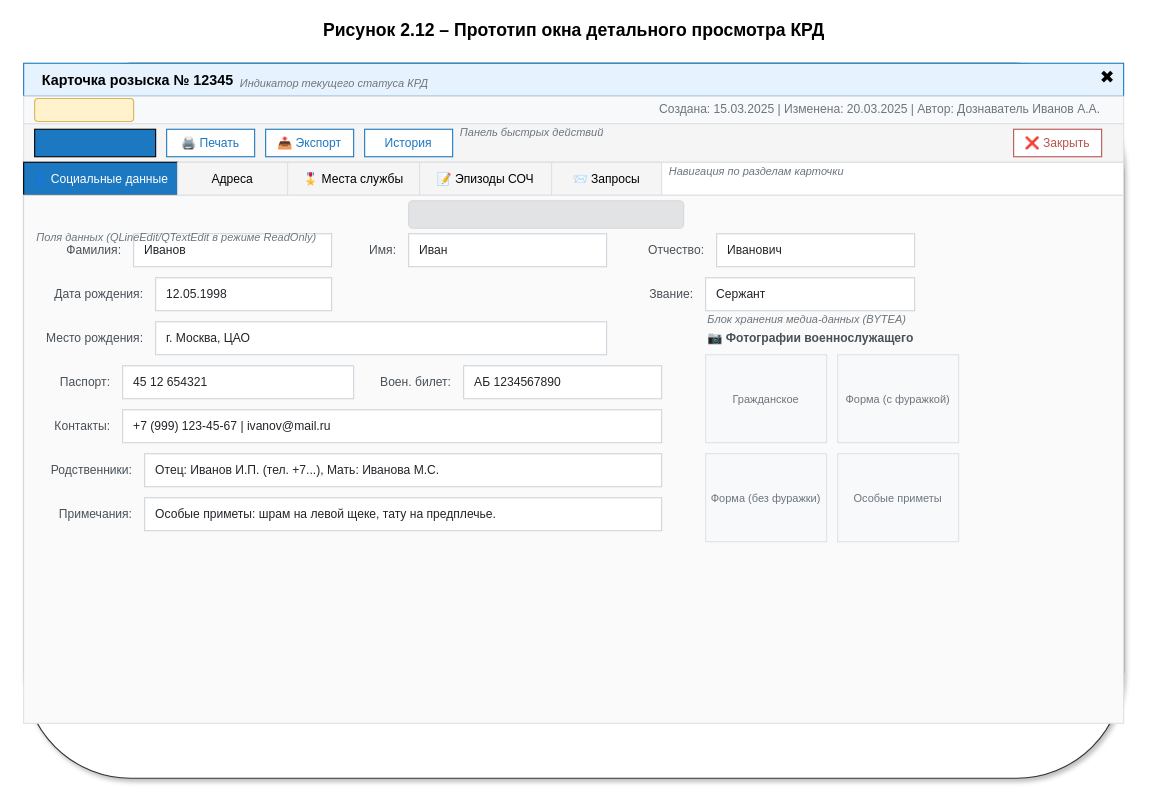
Image size: 1150x805. Some labels were removed from this diagram. Here are the shapes that lost their labels. From the top down, the centre of each, then its label:
At pixel 84 109: "🔍 В розыске".
At pixel 95 142: "✏️ Редактировать".
At pixel 546 214: "🔒 Режим просмотра (данные защищены от редактирования)".
